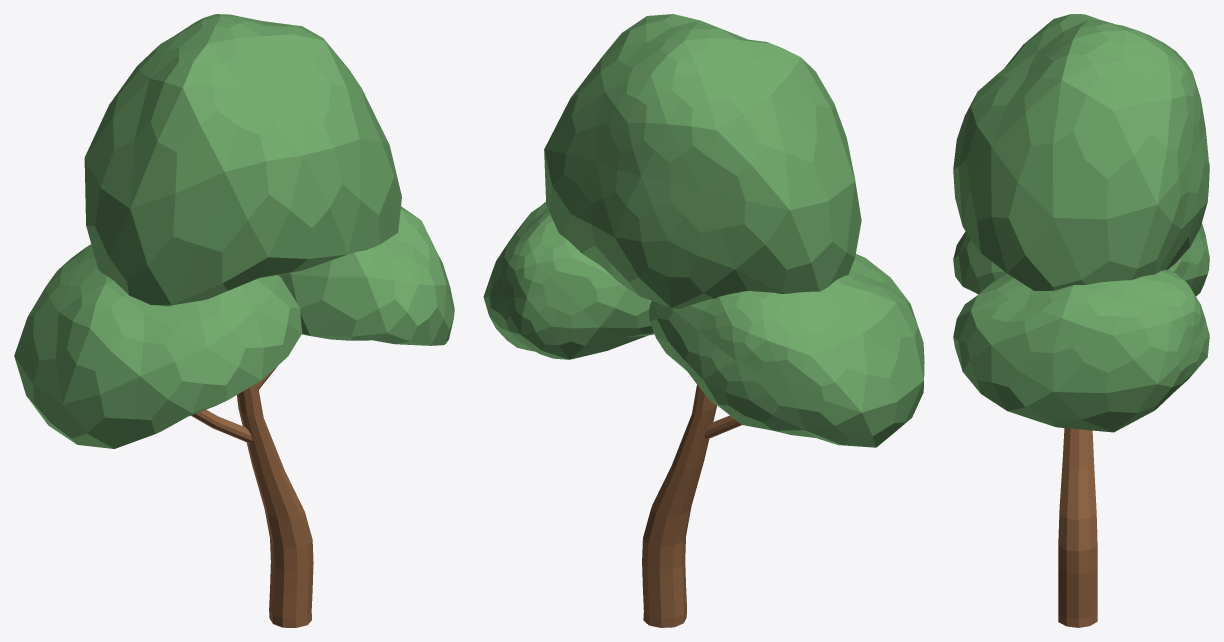
File: Tree.glb
3 renders of one model, left to right at view 1: azimuth 30°, elevation 25°; view 2: azimuth 150°, elevation 25°; view 3: azimuth 270°, elevation 25°, orthographic. The views are drawn at different scales.
Visible parts, largest first — view 1: Tree2; view 2: Tree2; view 3: Tree2.
Boxes of the visible parts, x1=… form: Tree2: x1=14, y1=14, x2=454, y2=627; Tree2: x1=483, y1=14, x2=924, y2=627; Tree2: x1=953, y1=14, x2=1209, y2=627.
Size of the model in its own units: 3.73 by 5.57 by 2.26.
